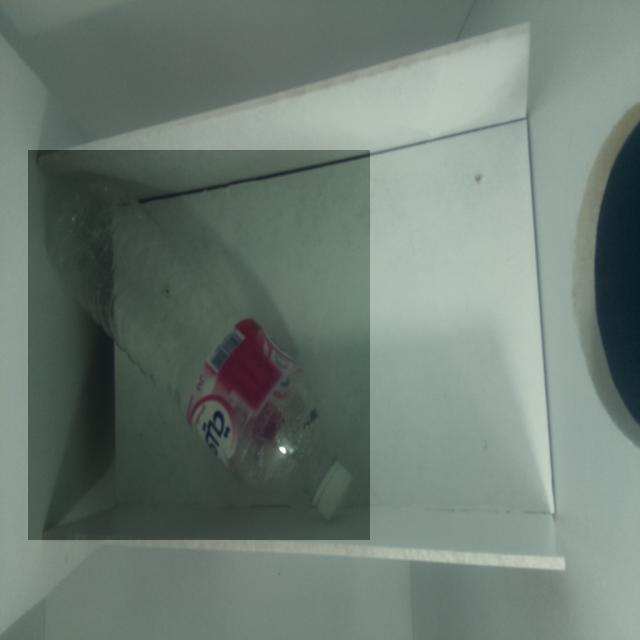BIODEGRADABLE: (28, 150, 370, 540)
